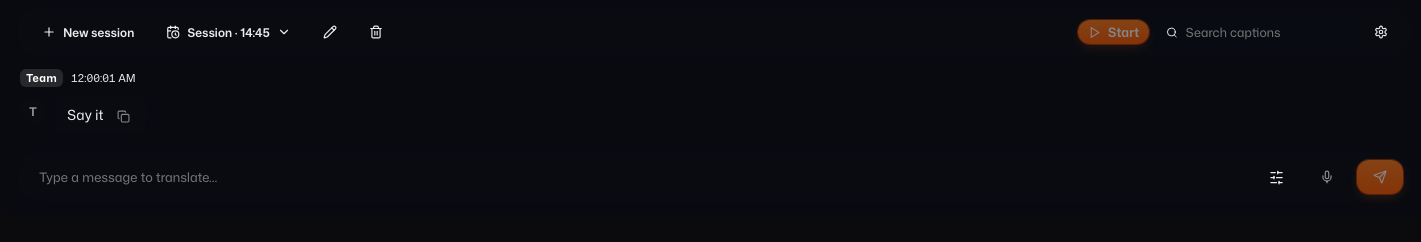
it: HistoryPanel › badges the live session in the picker
The image size is (1421, 242).
Click the button with aria-label "sessions".
click(228, 32)  # box [153, 16, 304, 48]
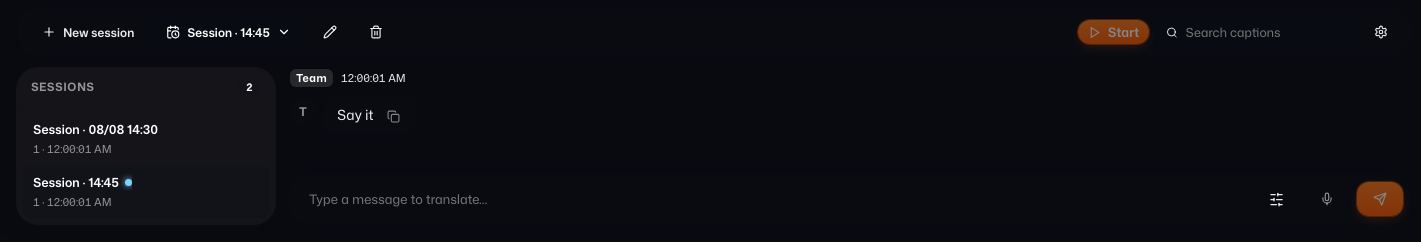
Result: the number of elements named "live session" is 1 at [125, 178, 132, 186]
